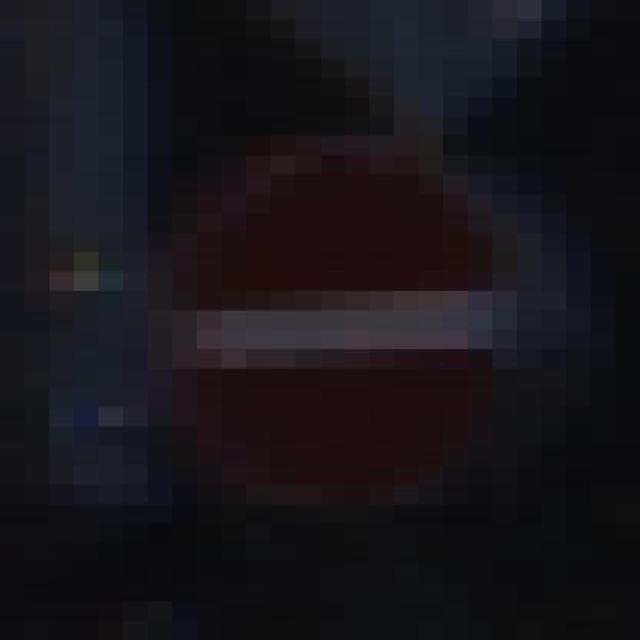B2: (155, 136, 525, 510)
